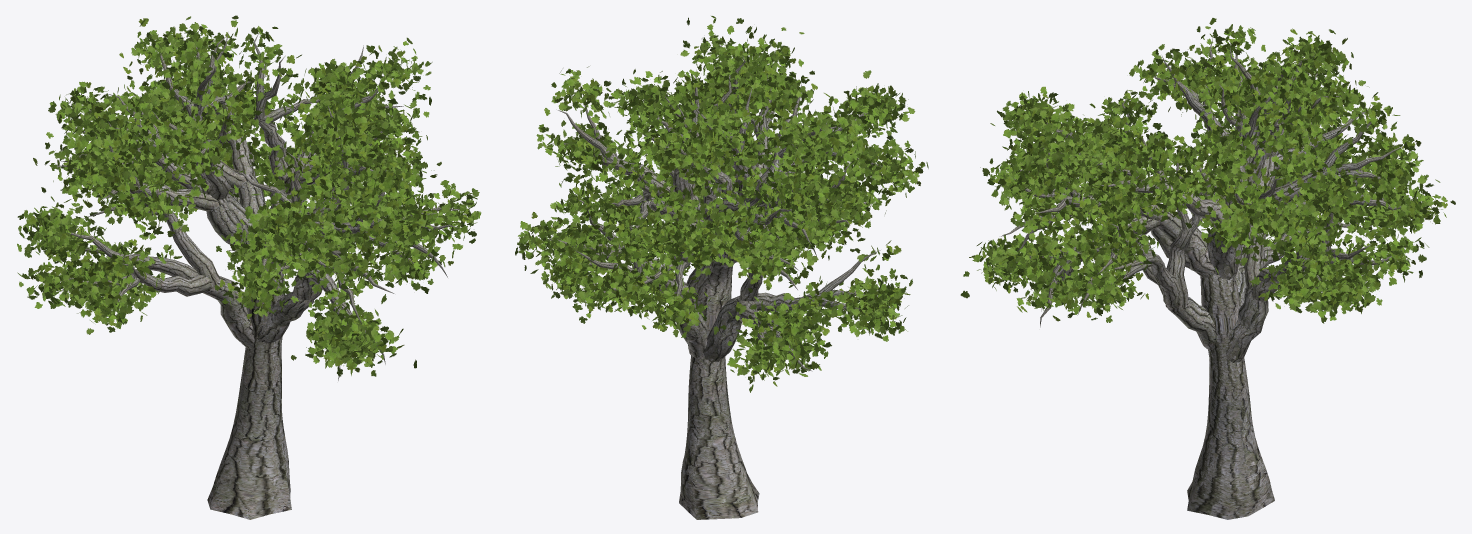
The picture shows the model from 3 angles, left to right: view 1: azimuth 30°, elevation 25°; view 2: azimuth 150°, elevation 25°; view 3: azimuth 270°, elevation 25°; orthographic projection. The views are drawn at different scales.
Visible parts, largest first — view 1: Oak foliage cards, Oak_EasyTree_V017_Proof; view 2: Oak foliage cards, Oak_EasyTree_V017_Proof; view 3: Oak foliage cards, Oak_EasyTree_V017_Proof.
Part boxes in pixels (<box>): Oak foliage cards: <box>17,15,481,376</box>; Oak_EasyTree_V017_Proof: <box>56,32,459,519</box>; Oak foliage cards: <box>515,16,928,392</box>; Oak_EasyTree_V017_Proof: <box>546,45,882,519</box>; Oak foliage cards: <box>960,18,1455,323</box>; Oak_EasyTree_V017_Proof: <box>1001,37,1402,519</box>.
Size of the model in its own units: 7.07 by 7.78 by 7.86.
Materials: 2 (2 with a texture image).
